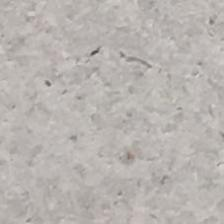Non_Crack: (25, 44, 224, 213)
